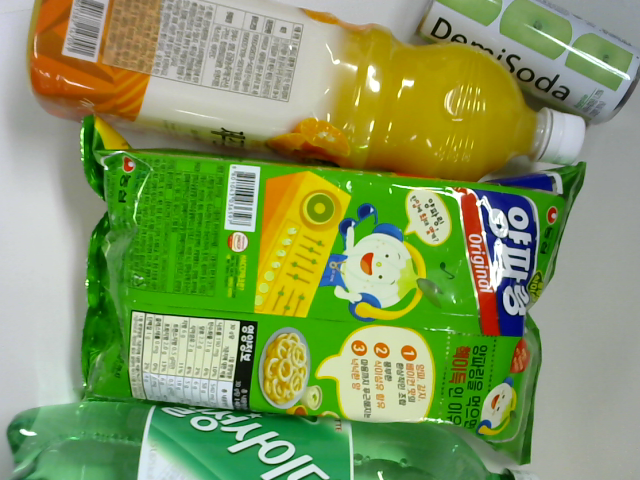Chilseong_Cider_1.5L: (1, 392, 553, 478)
Demisoda_Apple_Can_250ml: (383, 1, 636, 123)
Jeju_Tangerine_1.5L: (11, 1, 603, 183)
Oninon_Ring: (63, 118, 539, 428)
